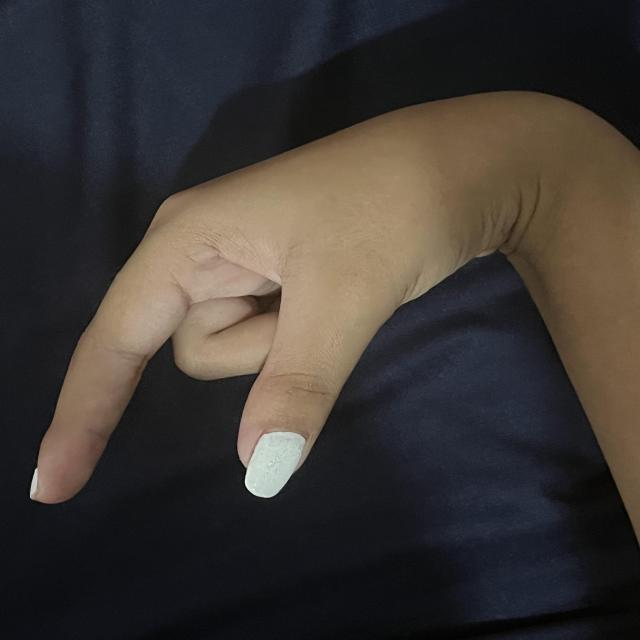Q: (27, 95, 494, 507)
